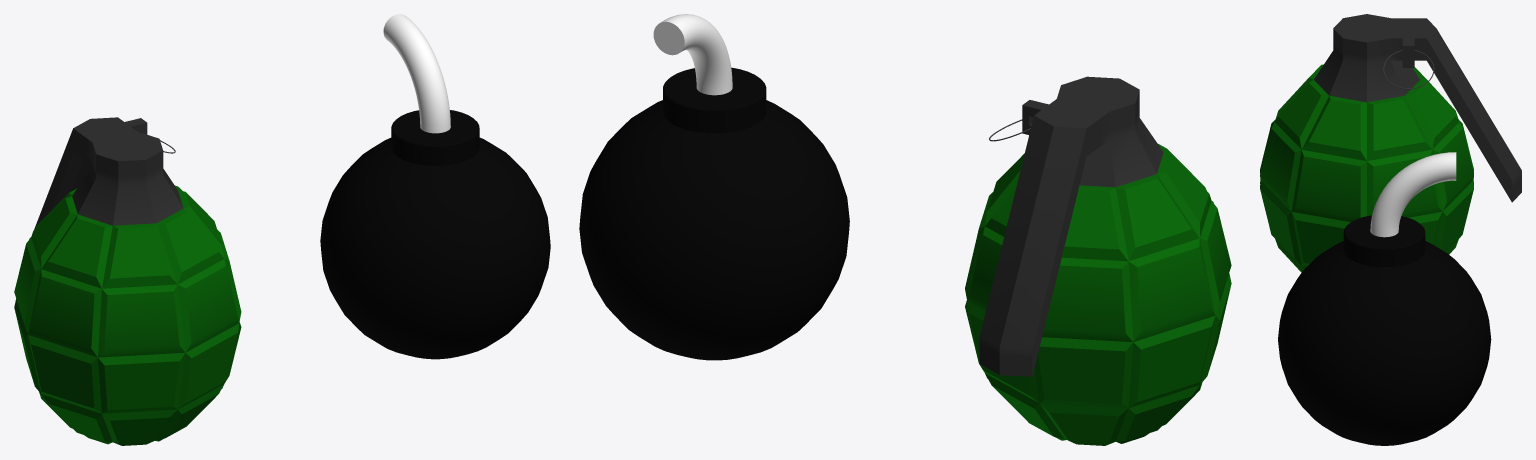
Rendered from CartoonBombs.glb.
3 views of the same model, side by side, from view 1: azimuth 30°, elevation 25°; view 2: azimuth 150°, elevation 25°; view 3: azimuth 270°, elevation 25° (orthographic). The views are drawn at different scales.
Visible parts, largest first — view 1: Grenade, Bomb; view 2: Grenade, Bomb; view 3: Bomb, Grenade.
Boxes of the visible parts, <box> form: Grenade: <box>14,117,241,445</box>; Bomb: <box>320,14,550,359</box>; Grenade: <box>965,76,1231,445</box>; Bomb: <box>579,14,849,360</box>; Bomb: <box>1278,152,1491,445</box>; Grenade: <box>1260,14,1521,272</box>.
Size of the model in its own units: 5.18 by 2.95 by 2.46.
